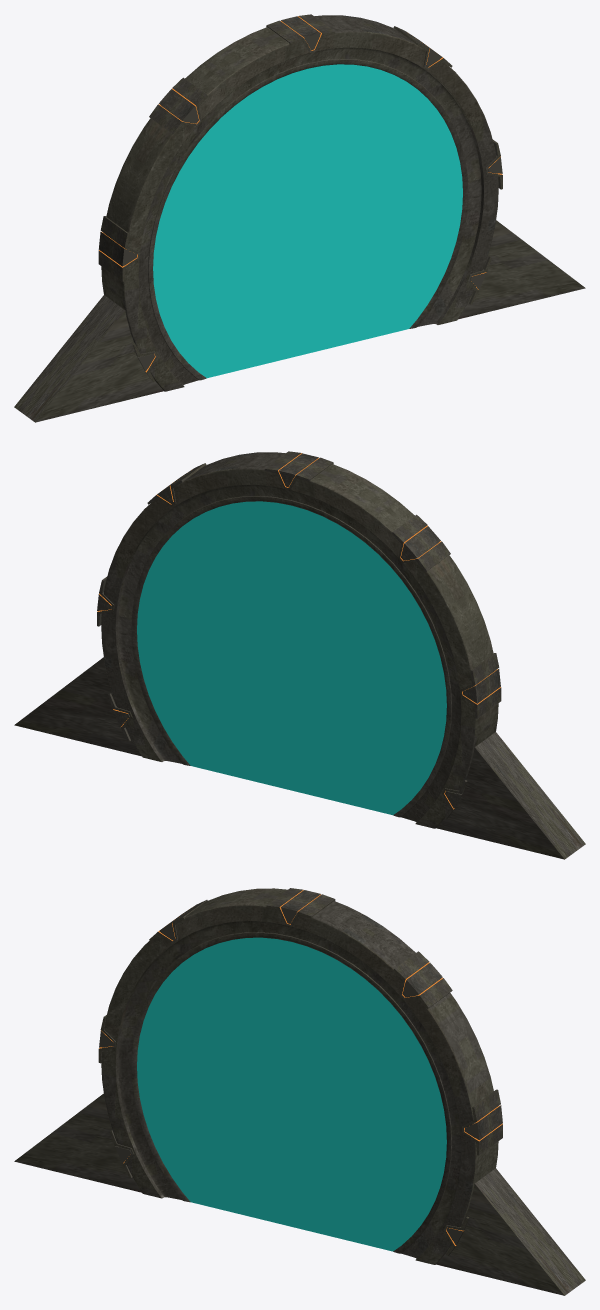
The model's file is portal-new.glb.
3 renders of one model, top to bottom at view 1: azimuth 30°, elevation 25°; view 2: azimuth 150°, elevation 25°; view 3: azimuth 330°, elevation 25°, orthographic.
Visible parts, largest first — view 1: Cube.002; view 2: Cube.002; view 3: Cube.002.
Boxes of the visible parts, x1,y1,x2,y2 form: Cube.002: (14, 14, 585, 422); Cube.002: (14, 451, 585, 859); Cube.002: (14, 888, 585, 1295).
Bounding box in the file's own units: 4.55 × 2.53 × 0.3426.
Materials: 3 (1 with a texture image).
